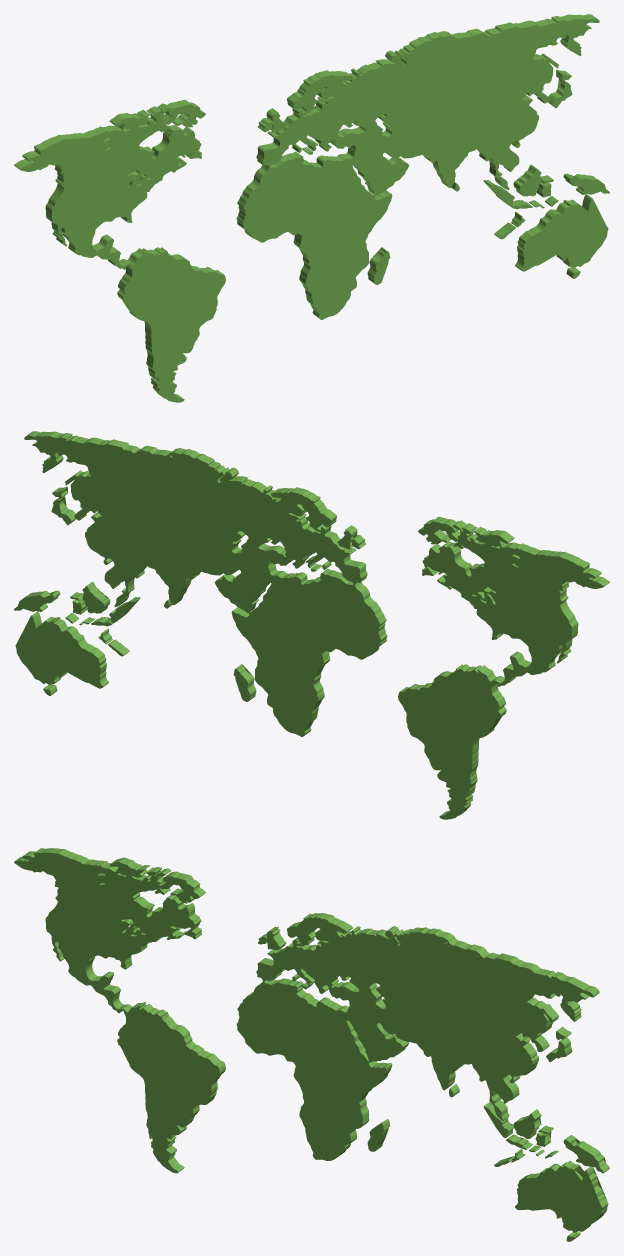
File: worldMap_Static.fbx
3 views of the same model, one above another, from view 1: azimuth 30°, elevation 25°; view 2: azimuth 150°, elevation 25°; view 3: azimuth 330°, elevation 25° (orthographic).
Visible parts, largest first — view 1: Cap_1_18, Cap_1_21, Extrude_17, Extrude_20, Cap_1_12, Extrude_11; view 2: Cap_2_18, Cap_2_21, Extrude_17, Extrude_20, Cap_2_12, Extrude_11; view 3: Cap_1_18, Cap_1_21, Extrude_17, Extrude_20, Cap_1_12, Extrude_11.
Part boxes in pixels (left/top/right/bottom): Cap_1_18: left=243, top=18, right=599, bottom=319; Cap_1_21: left=20, top=104, right=225, bottom=402; Extrude_17: left=236, top=14, right=596, bottom=318; Extrude_20: left=14, top=99, right=223, bottom=398; Cap_1_12: left=521, top=198, right=608, bottom=271; Extrude_11: left=515, top=194, right=592, bottom=270; Cap_2_18: left=24, top=435, right=380, bottom=736; Cap_2_21: left=398, top=521, right=603, bottom=819; Extrude_17: left=27, top=431, right=387, bottom=735; Extrude_20: left=400, top=516, right=609, bottom=815; Cap_2_12: left=15, top=615, right=102, bottom=688; Extrude_11: left=31, top=611, right=108, bottom=687; Cap_1_18: left=236, top=917, right=593, bottom=1160; Cap_1_21: left=14, top=852, right=219, bottom=1173; Extrude_17: left=247, top=913, right=599, bottom=1155; Extrude_20: left=15, top=848, right=225, bottom=1172; Cap_1_12: left=515, top=1165, right=602, bottom=1232; Extrude_11: left=520, top=1160, right=608, bottom=1230.
Size of the model in its own units: 548 by 268 by 10.
